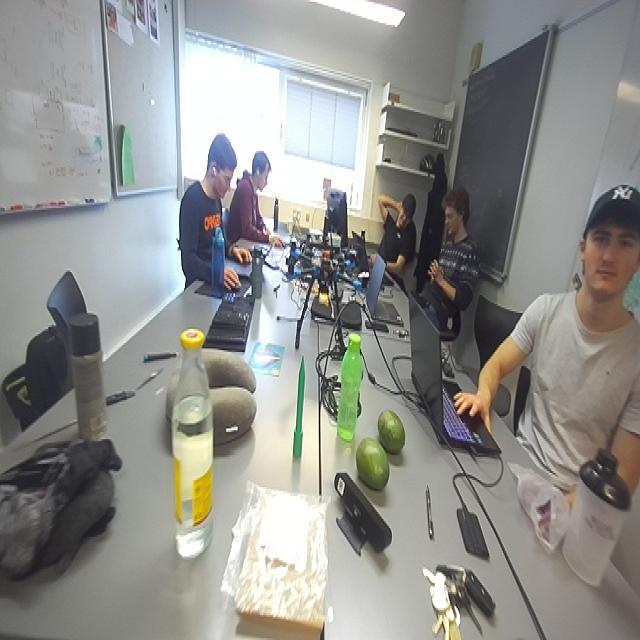probe: (292, 356, 303, 459)
